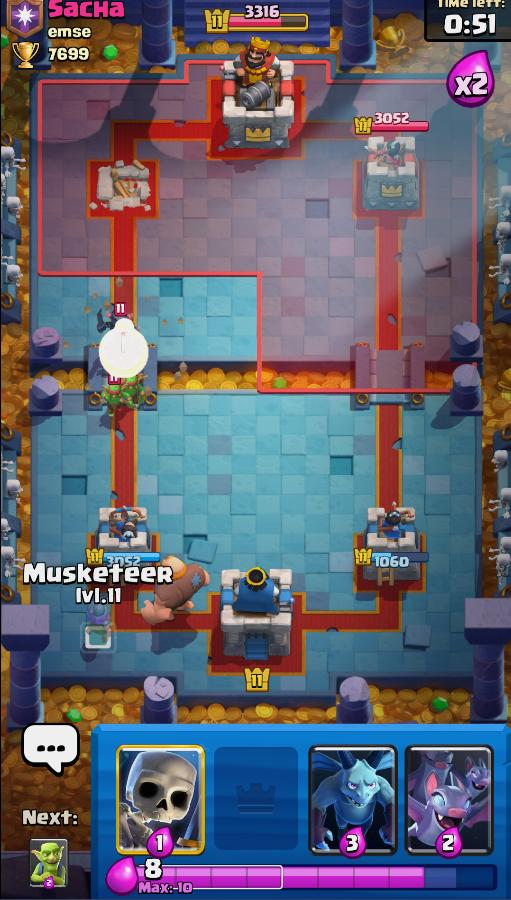geant: (138, 551, 210, 630)
gobelin_lances: (98, 384, 136, 419), (126, 377, 146, 408)
mini_PEKKA: (94, 305, 139, 333)
mousquetaire: (78, 604, 113, 649)
